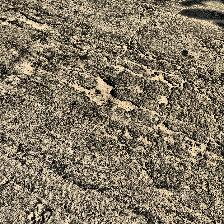pothole: (71, 75, 138, 112)
